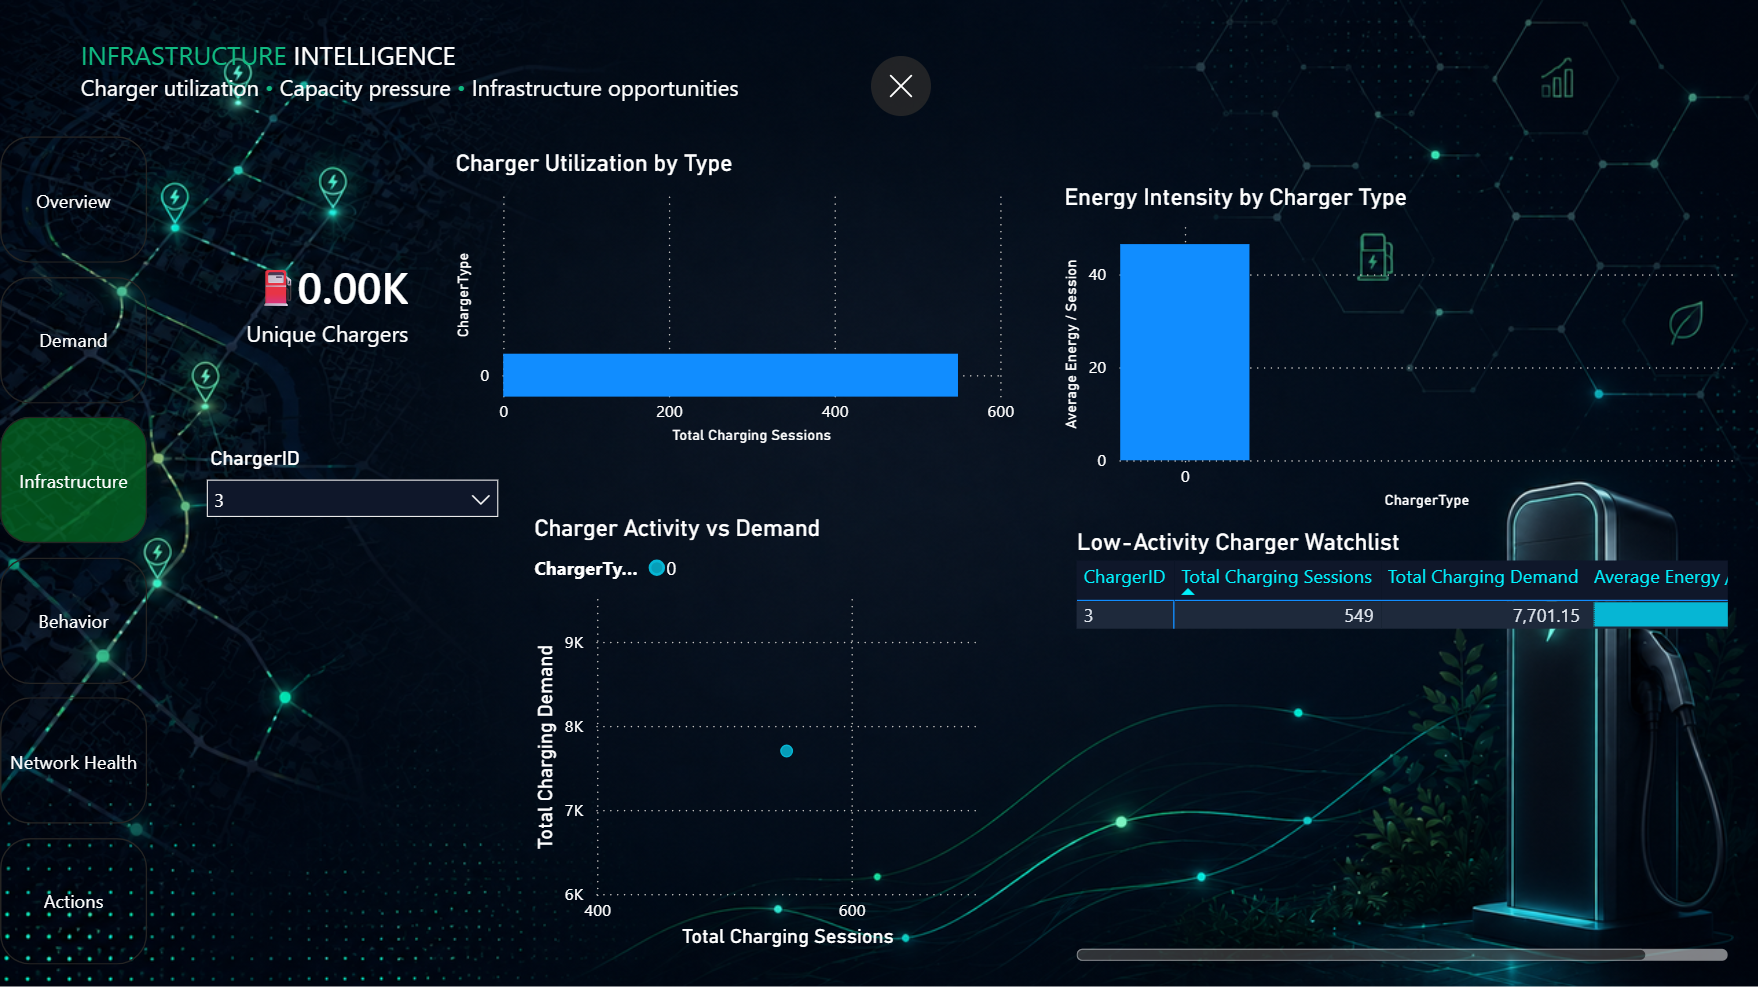

Layout of this report page (visuals, bound fields, positions):
{"tool":"powerbi","page":{"name":"Infrastructure","canvas":[1280,720],"ordinal":2},"visuals":[{"type":"textbox","box":[53.4,23.1,568.4,63.5],"z":0},{"type":"cardVisual","fields":{"Data":["Calculation_tbl.Unique Chargers"]},"box":[140.2,111.7,186.1,216.4],"z":0,"group":"g1"},{"type":"pageNavigator","box":[0,99.4,107.9,604.7],"z":1000},{"type":"clusteredBarChart","title":"Charger Utilization by Type","fields":{"Category":["Dim_Charger.ChargerType"],"Y":["Calculation_tbl.Total Charging Sessions"]},"box":[326.6,108.2,416.3,219.3],"z":1000,"group":"g1"},{"type":"group","id":"g1","title":"Group_Infrastructure","box":[139.9,108.2,1126.2,595.6],"z":2000},{"type":"clusteredColumnChart","title":"Energy Intensity by Charger Type","fields":{"Category":["Dim_Charger.ChargerType"],"Y":["Calculation_tbl.Average Energy / Session"]},"box":[768.8,133.2,497.3,242],"z":2000,"group":"g1"},{"type":"textbox","box":[178.6,185.8,41,68.8],"z":2001},{"type":"scatterChart","title":"Charger Activity vs Demand","fields":{"Category":["Dim_Charger.ChargerID"],"Series":["Dim_Charger.ChargerType"],"X":["Calculation_tbl.Total Charging Sessions"],"Y":["Calculation_tbl.Total Charging Demand"]},"box":[383.8,373.4,343.4,320.3],"z":3000,"group":"g1"},{"type":"slicer","fields":{"Values":["Dim_Charger.ChargerID"]},"box":[139.9,319.7,232.3,90.9],"z":4000,"group":"g1"},{"type":"pivotTable","title":"Low-Activity Charger Watchlist","fields":{"Rows":["Dim_Charger.ChargerID"],"Values":["Calculation_tbl.Total Charging Sessions","Calculation_tbl.Total Charging Demand","Calculation_tbl.Average Energy / Session"]},"box":[777.7,383.5,483.3,320.3],"z":5000,"group":"g1"}]}

Visuals, with their boxes in screenshot pixels (x1, y1, x2, y2), scaled from the page's 1280x720 canvas onto the 1758x987 screenshot:
textbox: crop(73, 32, 854, 119)
cardVisual - Calculation_tbl.Unique Chargers: crop(193, 153, 448, 450)
pageNavigator: crop(0, 136, 148, 965)
"Charger Utilization by Type" clusteredBarChart: crop(449, 148, 1020, 449)
"Group_Infrastructure" group: crop(192, 148, 1739, 965)
"Energy Intensity by Charger Type" clusteredColumnChart: crop(1056, 183, 1739, 514)
textbox: crop(245, 255, 302, 349)
"Charger Activity vs Demand" scatterChart: crop(527, 512, 999, 951)
slicer - Dim_Charger.ChargerID: crop(192, 438, 511, 563)
"Low-Activity Charger Watchlist" pivotTable: crop(1068, 526, 1732, 965)
